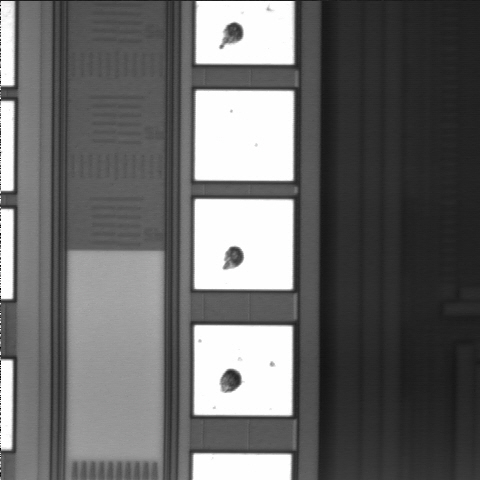pad: (195, 90, 294, 181), (194, 199, 293, 289), (194, 325, 292, 415)
